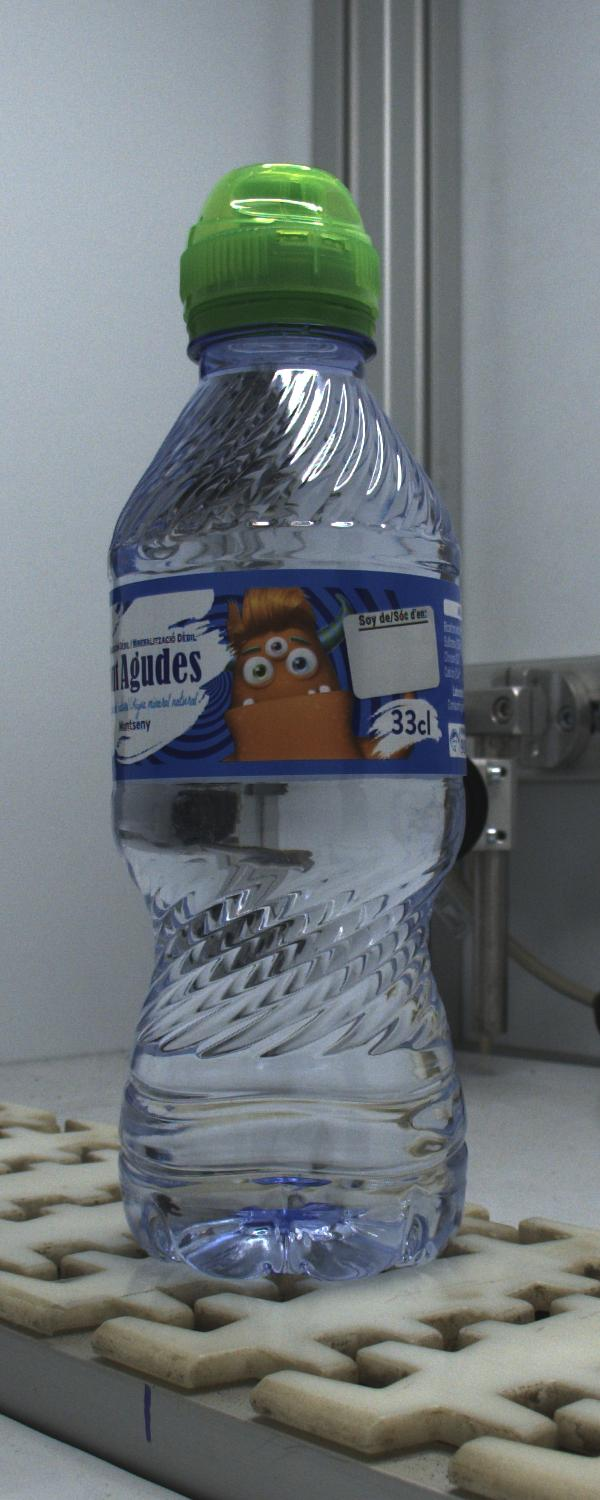bottle: (110, 164, 465, 1278)
cap: (110, 164, 465, 1278), (180, 163, 380, 356)
